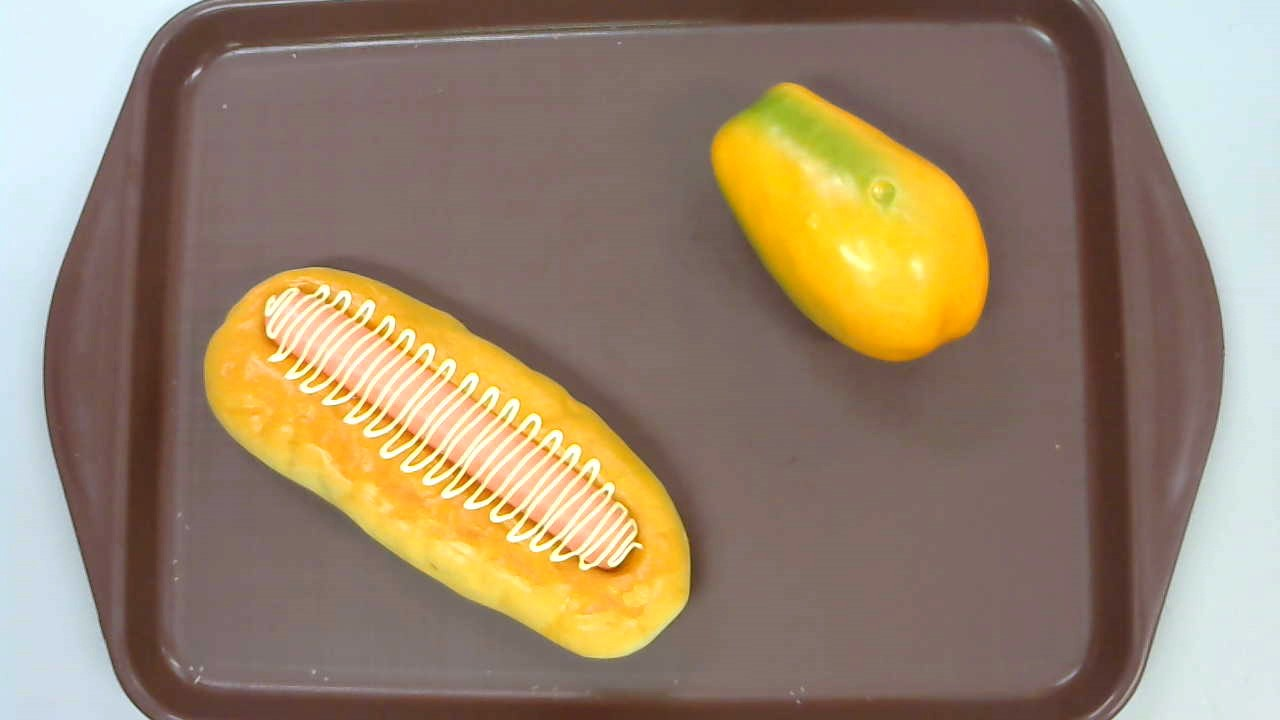hot dog: (203, 265, 691, 659)
papya: (709, 81, 989, 362)
